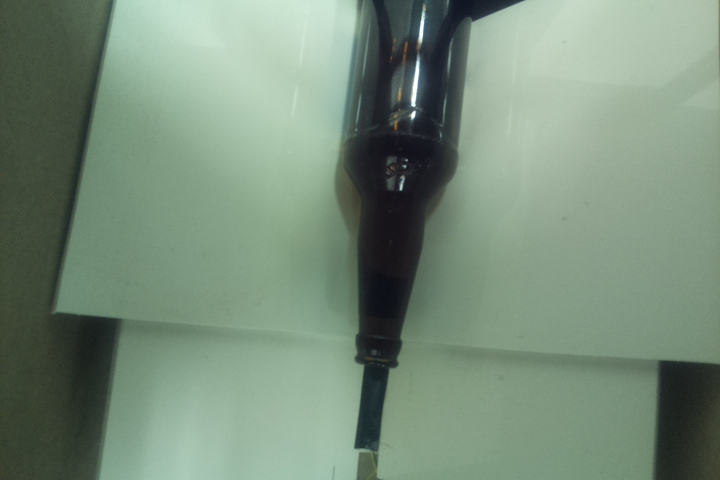makju: (335, 1, 473, 370)
